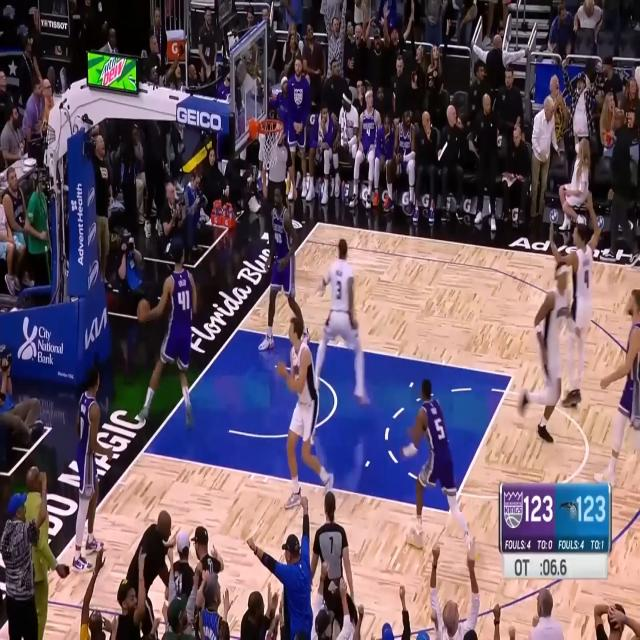Ball: (136, 299, 152, 326)
Hoop: (255, 118, 284, 172)
Period: (514, 556, 532, 579)
Player: (272, 318, 336, 510), (518, 262, 583, 444), (550, 190, 603, 411), (401, 378, 470, 547), (138, 239, 197, 430), (311, 236, 369, 402), (70, 365, 115, 573), (257, 185, 311, 349), (599, 286, 640, 489)
Ref: (313, 492, 354, 611), (259, 122, 297, 237)
Team Points: (576, 492, 608, 527), (523, 492, 554, 527)
Time Remaining: (538, 555, 568, 579)
